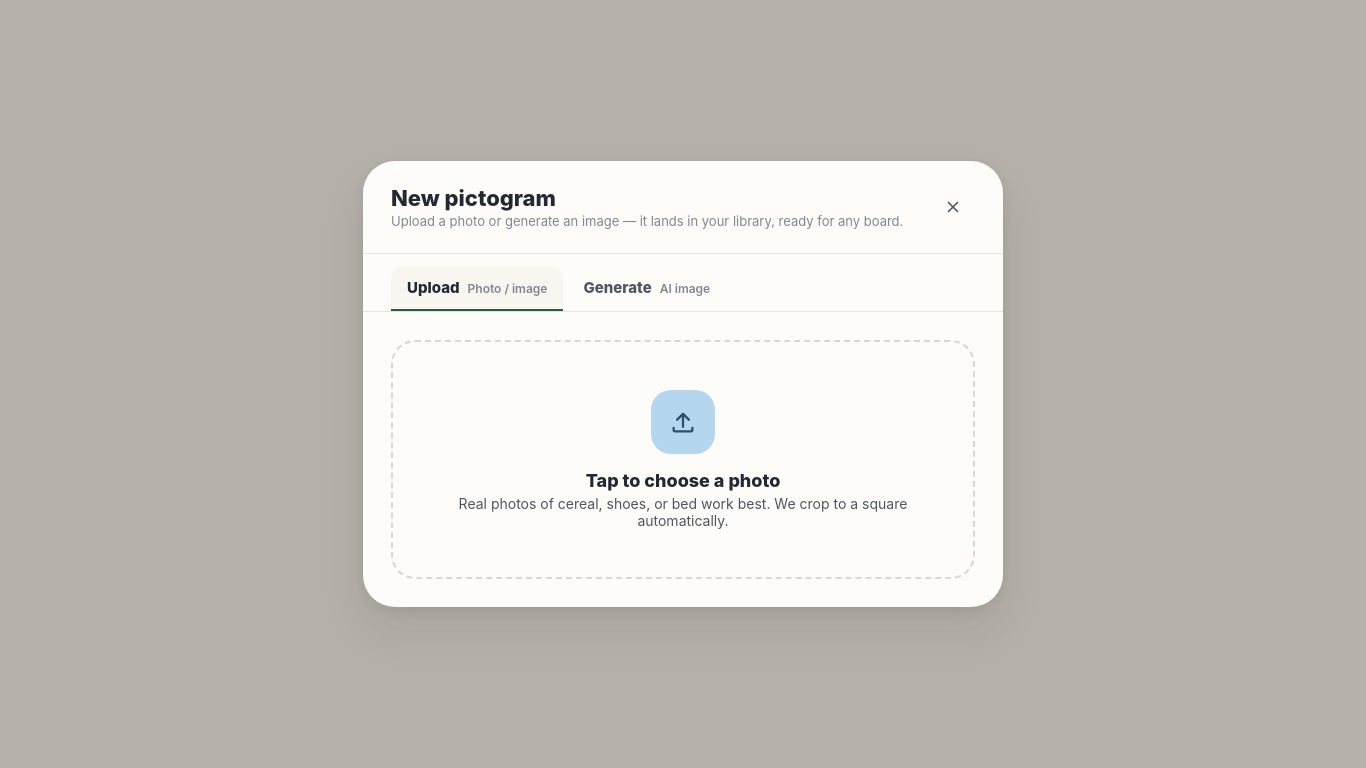
Scenario: NewPictogramModal › offers a Generate tab that switches to the AI image panel (#524)
Click the tab "Generate". click: coordinates (647, 288)
box: x1=567 y1=266 x2=726 y2=311
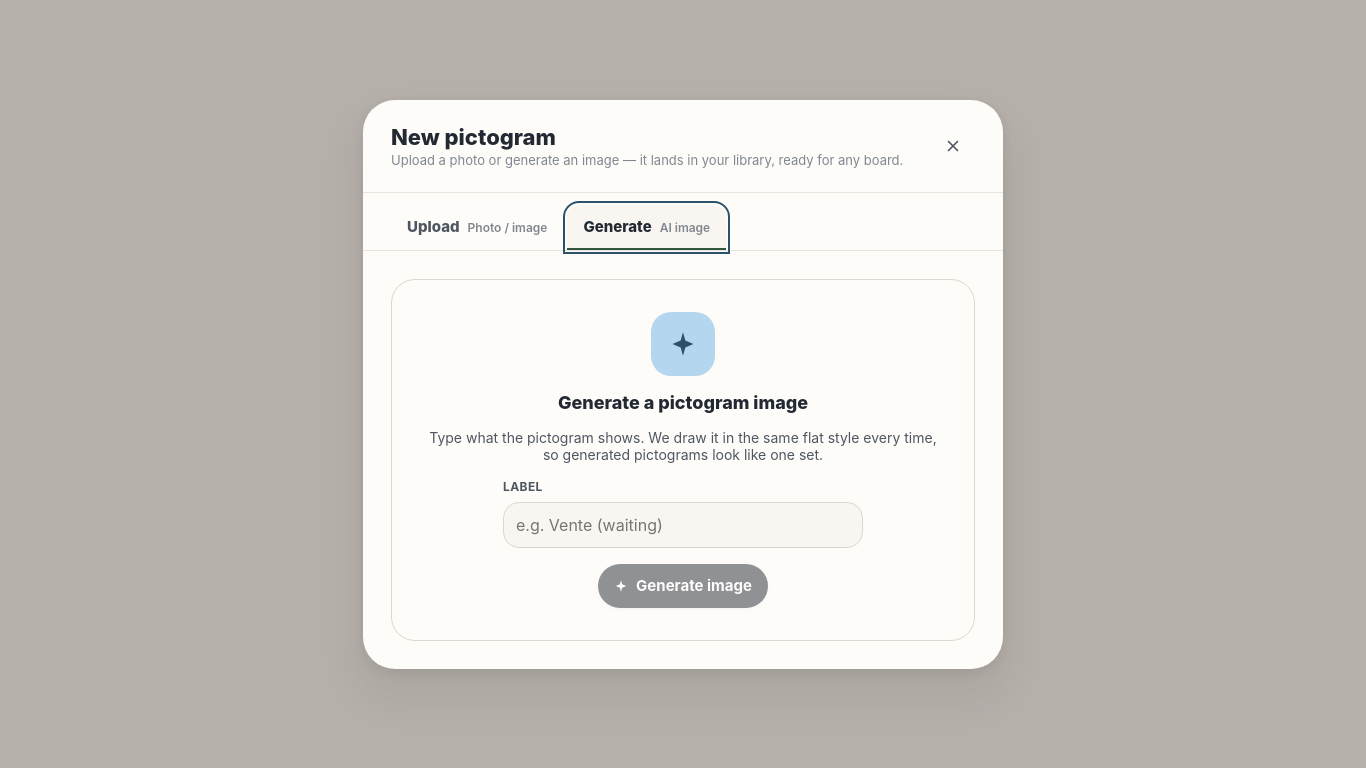
Now the button "Generate image" is shown, box x1=598 y1=564 x2=768 y2=608
Now the button "Tap to choose a photo" is gone
